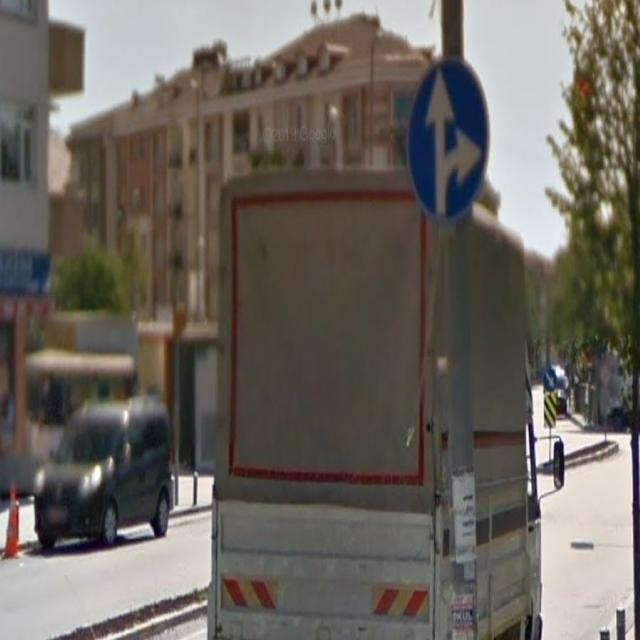ilerisag: (406, 58, 491, 224)
